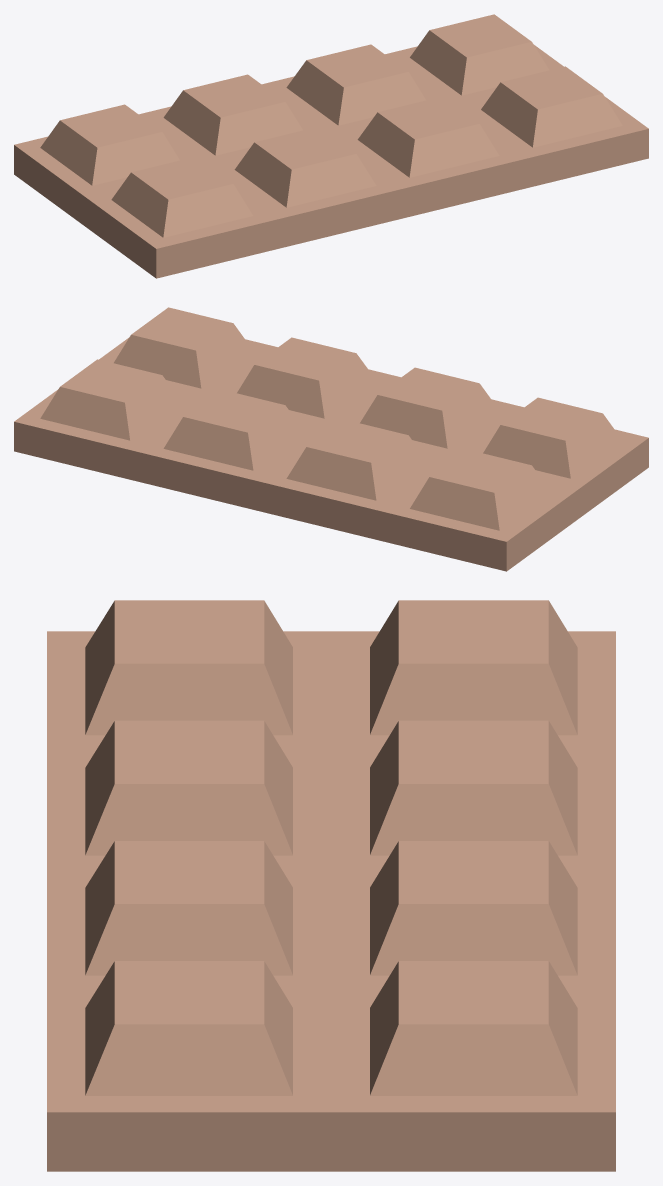
Rendered from chocolate.glb.
3 renders of one model, top to bottom at view 1: azimuth 30°, elevation 25°; view 2: azimuth 150°, elevation 25°; view 3: azimuth 270°, elevation 25°, orthographic. The views are drawn at different scales.
Visible parts, largest first — view 1: chocolate; view 2: chocolate; view 3: chocolate.
Part boxes in pixels (<box>): chocolate: <box>14,14,648,278</box>; chocolate: <box>14,307,648,571</box>; chocolate: <box>47,600,615,1171</box>.
Size of the model in its own units: 0.2924 by 0.0337 by 0.1463.
